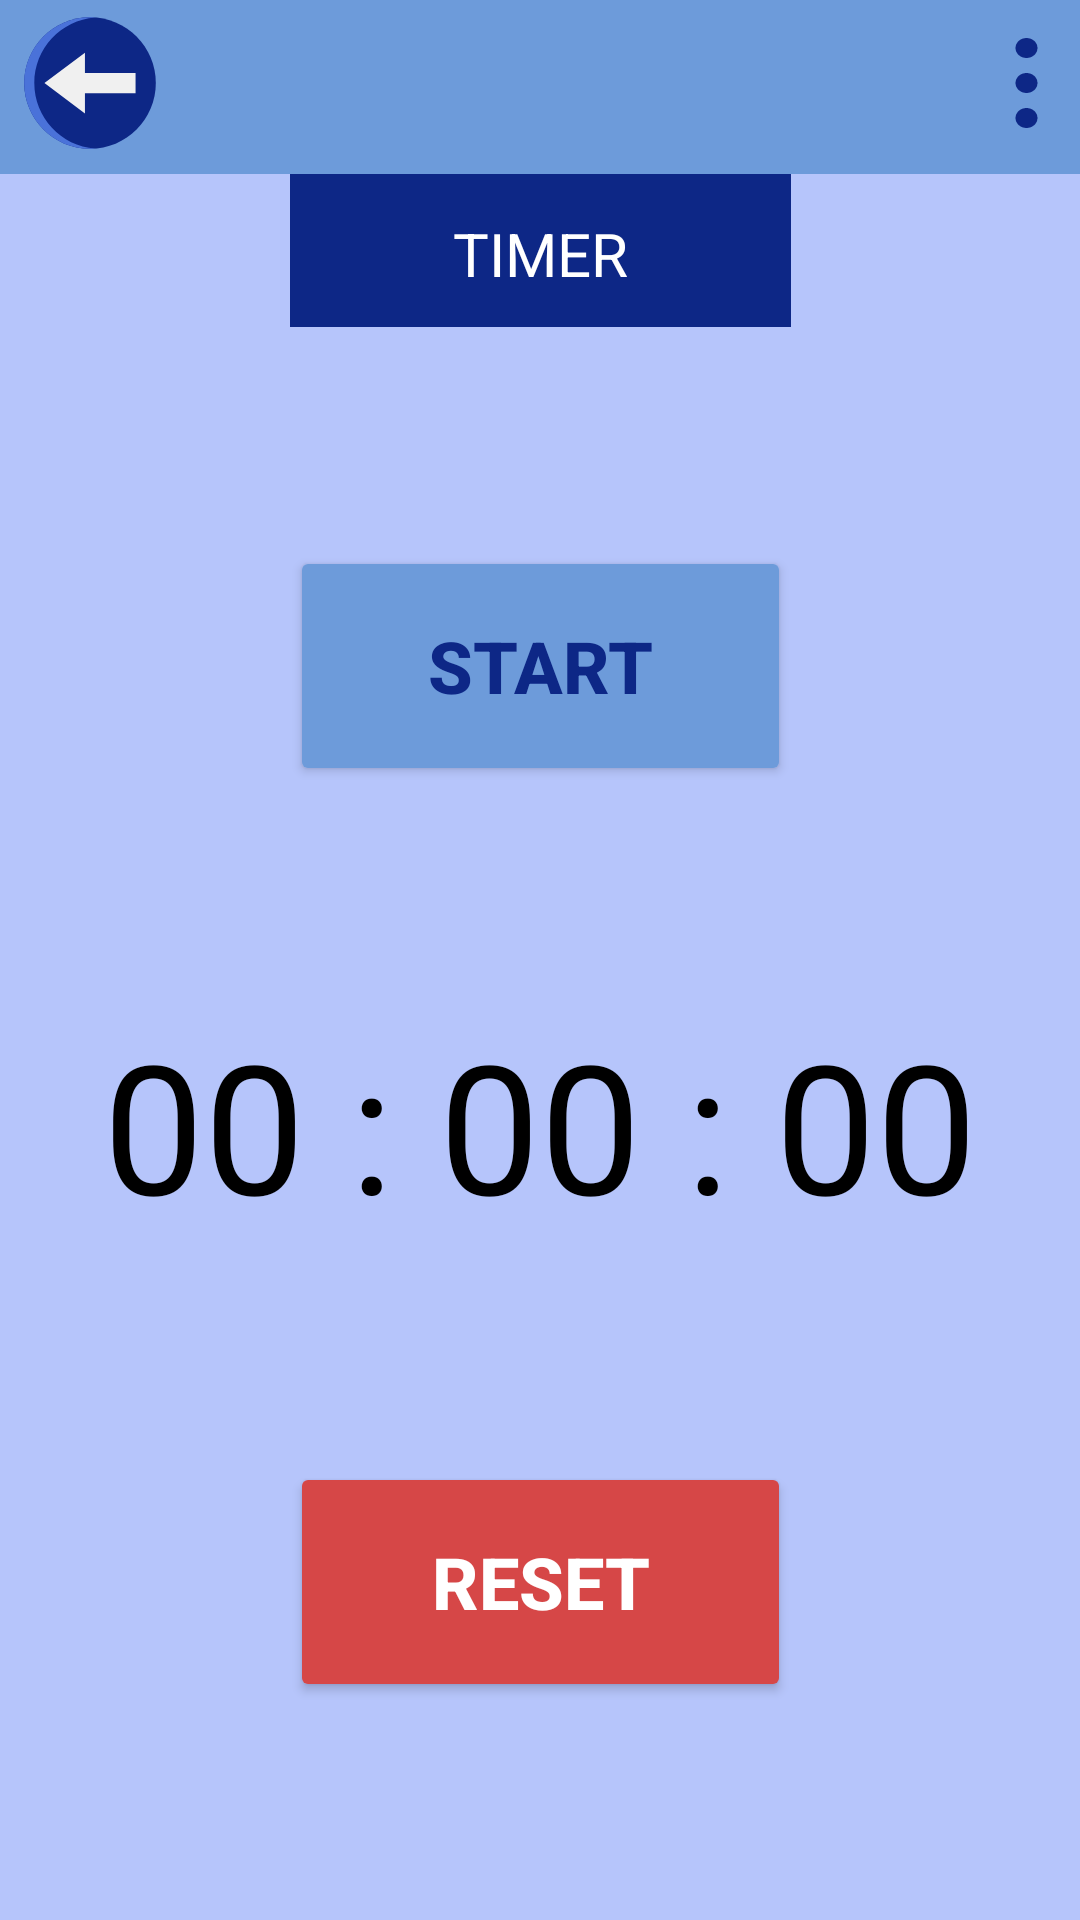

Screen size 1080*1920. Icon name, then its center in pixels as [x,y]:
back: [90,83]
more: [1026,83]
